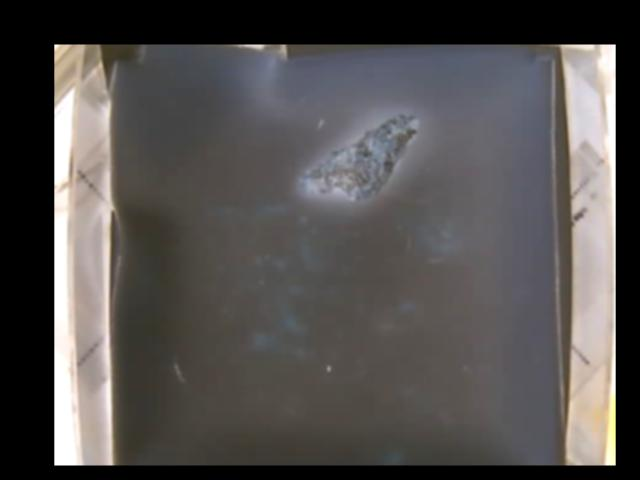Brisk: (299, 108, 423, 199)
